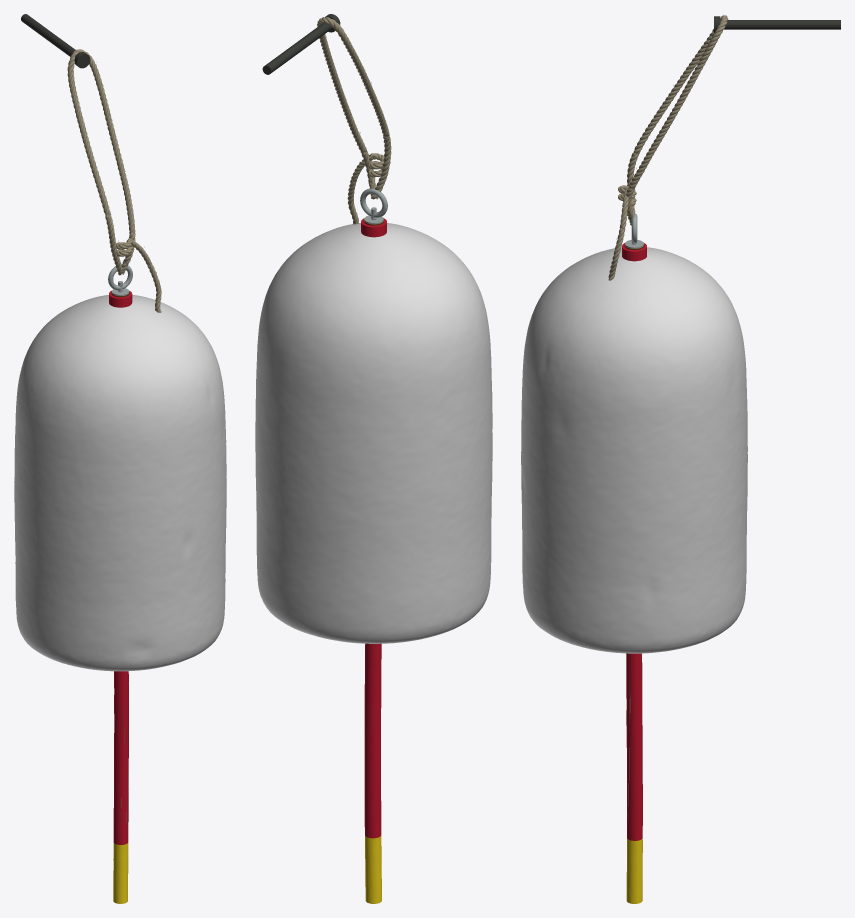
The model's file is lobster_trap_buoy.glb.
The picture shows the model from 3 angles, left to right: view 1: azimuth 30°, elevation 25°; view 2: azimuth 150°, elevation 25°; view 3: azimuth 270°, elevation 25°; orthographic projection. The views are drawn at different scales.
Visible parts, largest first — view 1: Float | Rounded foam body with small dents, Stem | Long red marker with yellow tip, Line | Spliced hanging loop, Setting | Hanging peg, Knot | Short weathered rope tail; view 2: Float | Rounded foam body with small dents, Stem | Long red marker with yellow tip, Line | Spliced hanging loop, Setting | Hanging peg; view 3: Float | Rounded foam body with small dents, Stem | Long red marker with yellow tip, Line | Spliced hanging loop, Setting | Hanging peg.
Boxes of the visible parts, x1,y1,x2,y2 form: Float | Rounded foam body with small dents: [14, 294, 226, 671]; Stem | Long red marker with yellow tip: [113, 671, 128, 903]; Line | Spliced hanging loop: [67, 49, 135, 275]; Setting | Hanging peg: [21, 14, 75, 56]; Knot | Short weathered rope tail: [127, 239, 161, 312]; Float | Rounded foam body with small dents: [255, 223, 492, 643]; Stem | Long red marker with yellow tip: [364, 643, 381, 903]; Line | Spliced hanging loop: [317, 17, 391, 199]; Setting | Hanging peg: [262, 22, 332, 74]; Float | Rounded foam body with small dents: [521, 247, 747, 653]; Stem | Long red marker with yellow tip: [626, 653, 642, 903]; Line | Spliced hanging loop: [626, 15, 728, 225]; Setting | Hanging peg: [720, 20, 840, 29].
Bounding box in the file's own units: 0.2194 × 0.9342 × 0.306.
